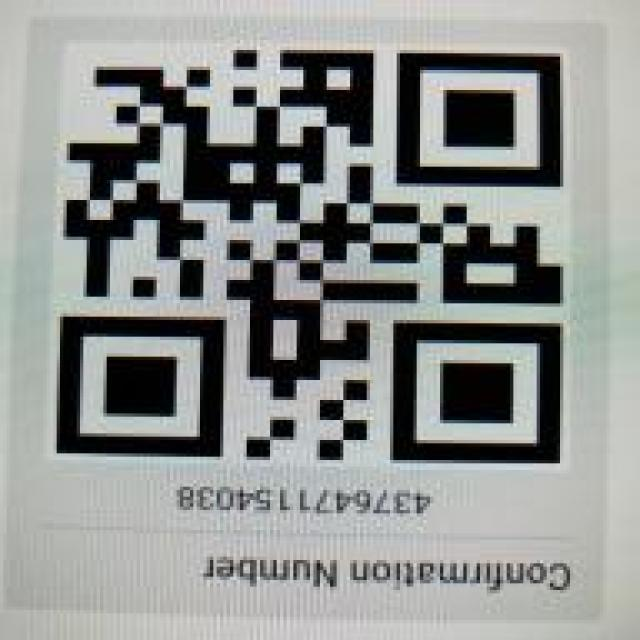qr_code: (54, 48, 563, 463)
